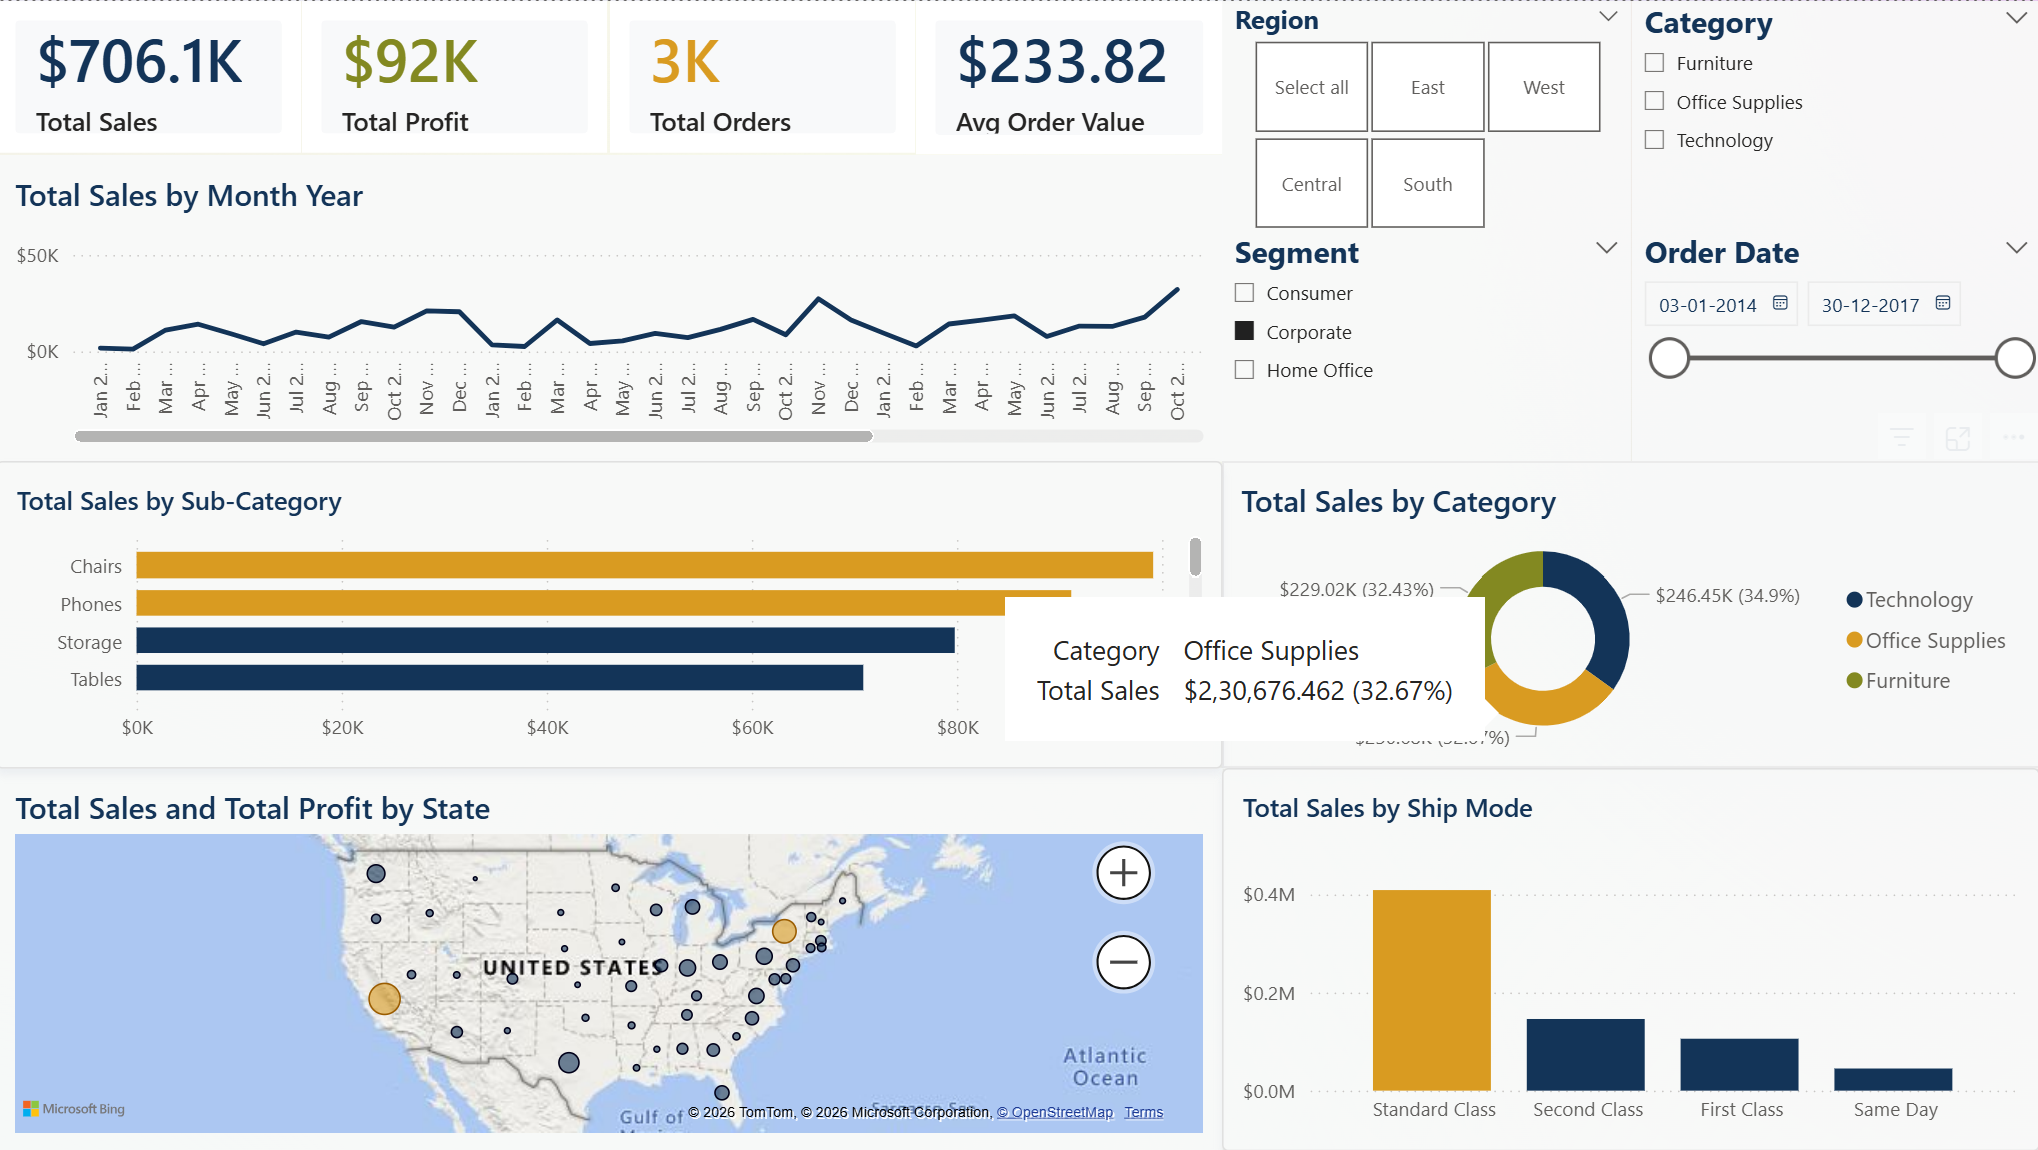

The dashboard page shown, as its layout file describes it:
{"tool":"powerbi","page":{"name":"Page 1","canvas":[1280,720],"ordinal":0},"visuals":[{"type":"cardVisual","fields":{"Data":["sales_data.Total Orders"]},"box":[384,0,192,96],"z":0},{"type":"cardVisual","fields":{"Data":["sales_data.Total Profit"]},"box":[192,0,192,96],"z":1000},{"type":"cardVisual","fields":{"Data":["sales_data.Total Sales"]},"box":[0,0,192,96],"z":2000},{"type":"cardVisual","title":"assa","fields":{"Data":["sales_data.Average Order Value"]},"box":[576,0,192,96],"z":3000},{"type":"lineChart","fields":{"Y":["sales_data.Total Sales"],"Category":["sales_data.Month Year"]},"box":[0,96,768,192],"z":4000},{"type":"donutChart","fields":{"Category":["sales_data.Category"],"Y":["sales_data.Total Sales"]},"box":[768,288,512,192],"z":5000},{"type":"map","fields":{"Category":["sales_data.State"],"Size":["sales_data.Total Sales"]},"box":[0,480,768,240],"z":6000},{"type":"barChart","fields":{"Category":["sales_data.Sub-Category"],"Y":["sales_data.Total Sales"]},"box":[0,288,768,192],"z":7000},{"type":"clusteredColumnChart","fields":{"Category":["sales_data.Ship Mode"],"Y":["sales_data.Total Sales"]},"box":[768,480,512,240],"z":8000},{"type":"slicer","fields":{"Values":["sales_data.Region"]},"box":[768,0,256,144],"z":9000},{"type":"slicer","fields":{"Values":["sales_data.Category"]},"box":[1024,0,256,144],"z":10000},{"type":"slicer","fields":{"Values":["sales_data.Segment"]},"box":[768,144,256,144],"z":11000},{"type":"slicer","fields":{"Values":["sales_data.Order Date"]},"box":[1024,144,256,144],"z":12000}]}

Visuals, with their boxes in screenshot pixels (x1, y1, x2, y2), scaled from the page's 1280x720 canvas onto the 2038x1150 screenshot:
cardVisual - sales_data.Total Orders: (611,0,917,153)
cardVisual - sales_data.Total Profit: (306,0,611,153)
cardVisual - sales_data.Total Sales: (0,0,306,153)
"assa" cardVisual: (917,0,1223,153)
lineChart - sales_data.Total Sales x sales_data.Month Year: (0,153,1223,460)
donutChart - sales_data.Category x sales_data.Total Sales: (1223,460,2037,767)
map - sales_data.State x sales_data.Total Sales: (0,767,1223,1149)
barChart - sales_data.Sub-Category x sales_data.Total Sales: (0,460,1223,767)
clusteredColumnChart - sales_data.Ship Mode x sales_data.Total Sales: (1223,767,2037,1149)
slicer - sales_data.Region: (1223,0,1630,230)
slicer - sales_data.Category: (1630,0,2037,230)
slicer - sales_data.Segment: (1223,230,1630,460)
slicer - sales_data.Order Date: (1630,230,2037,460)
